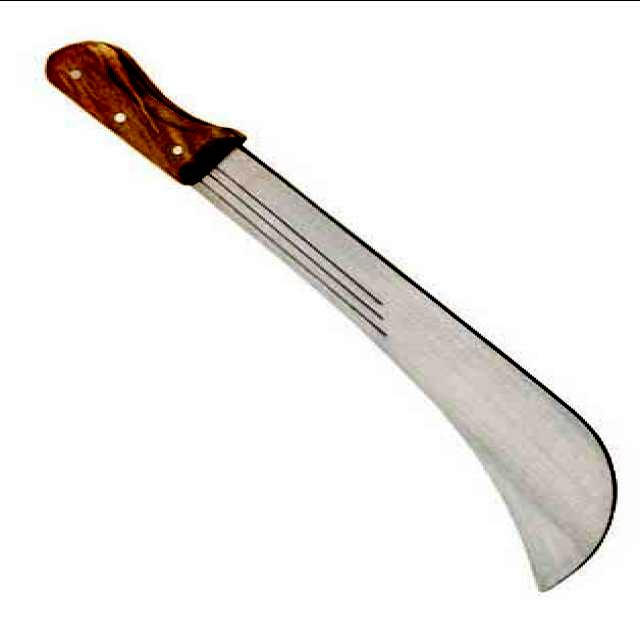long knife: (29, 50, 619, 602)
